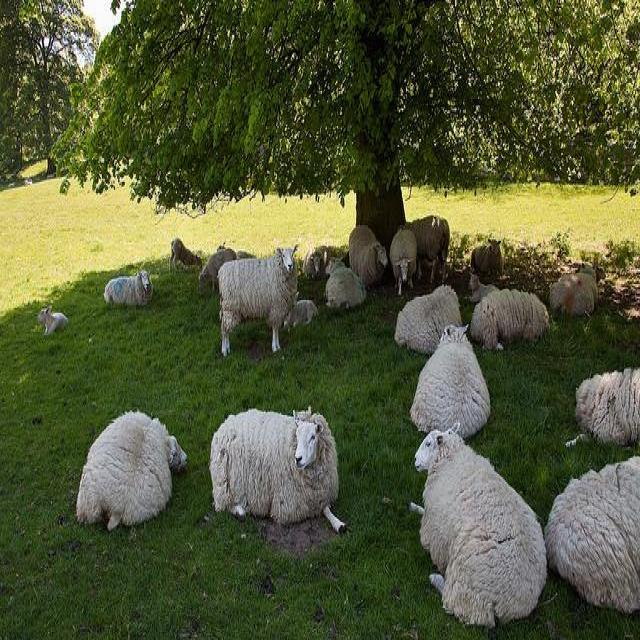Sheep: (31, 206, 611, 346), (407, 420, 548, 626), (210, 405, 348, 533), (538, 453, 639, 616), (72, 410, 190, 530), (217, 244, 298, 358), (410, 324, 489, 436), (566, 367, 639, 449), (469, 289, 550, 353), (394, 284, 462, 354), (349, 227, 388, 290), (324, 262, 366, 314)
